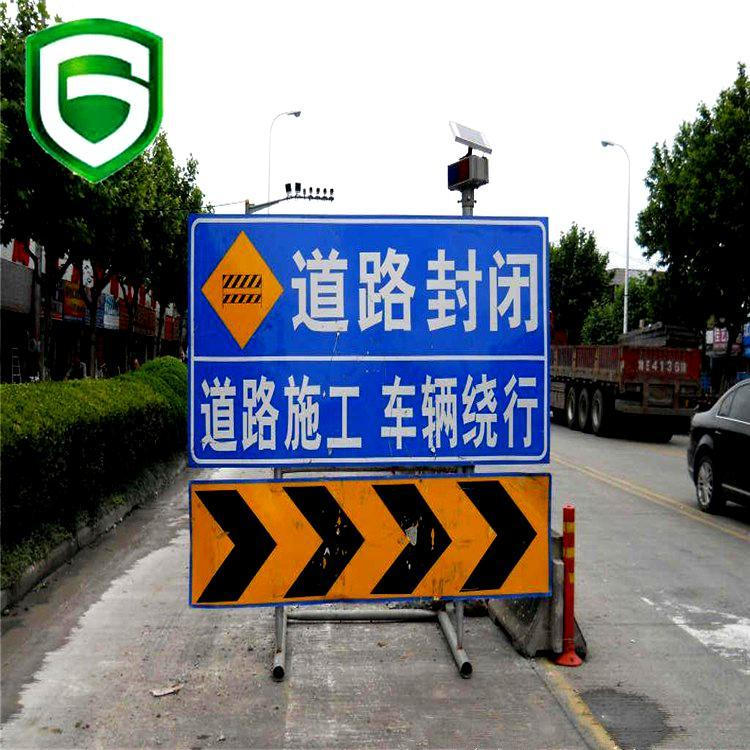sign: (188, 216, 551, 598)
